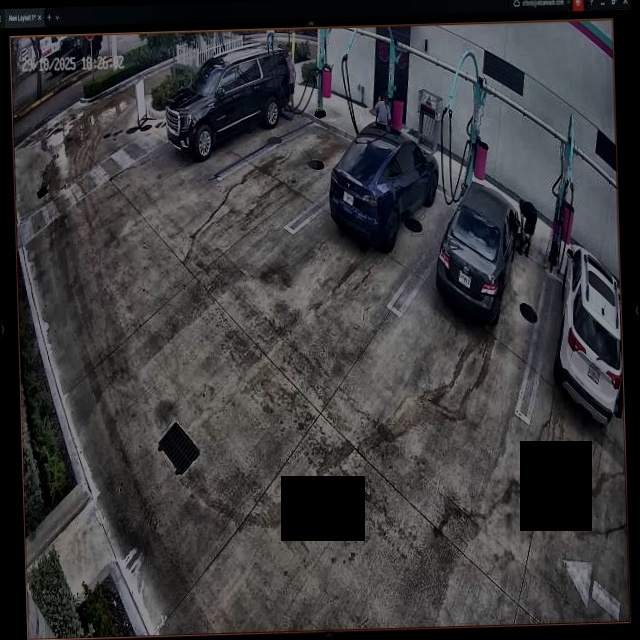Car: (164, 41, 292, 161), (328, 119, 440, 245), (435, 179, 521, 321)
